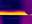Hotspot: (0, 11, 28, 15)
